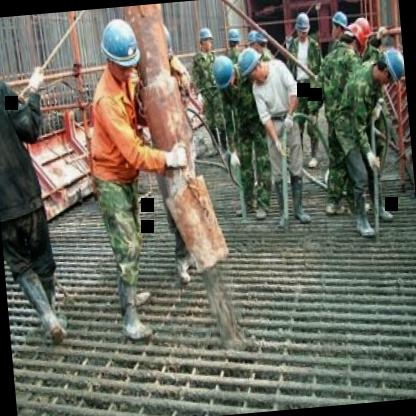helmet: (97, 14, 142, 80), (238, 44, 272, 90), (376, 46, 406, 92), (211, 53, 239, 96), (341, 20, 368, 56), (294, 8, 314, 44), (330, 8, 350, 40), (355, 13, 374, 46), (196, 24, 214, 53), (0, 25, 7, 95), (225, 26, 240, 56)
